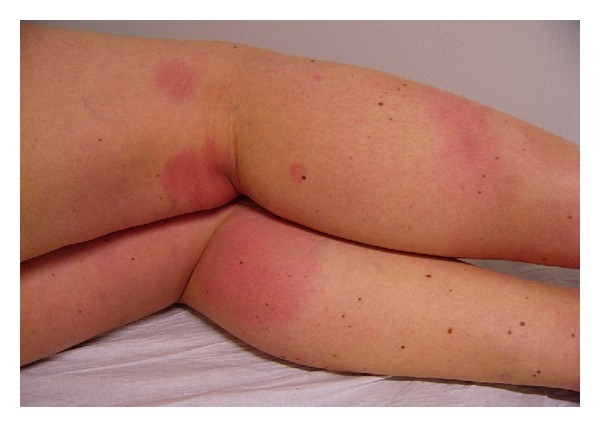Ringworm: (154, 140, 235, 201), (147, 45, 210, 97)
